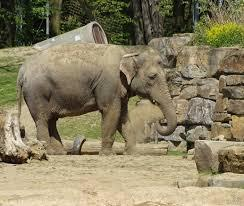elephant: (18, 24, 175, 154)
